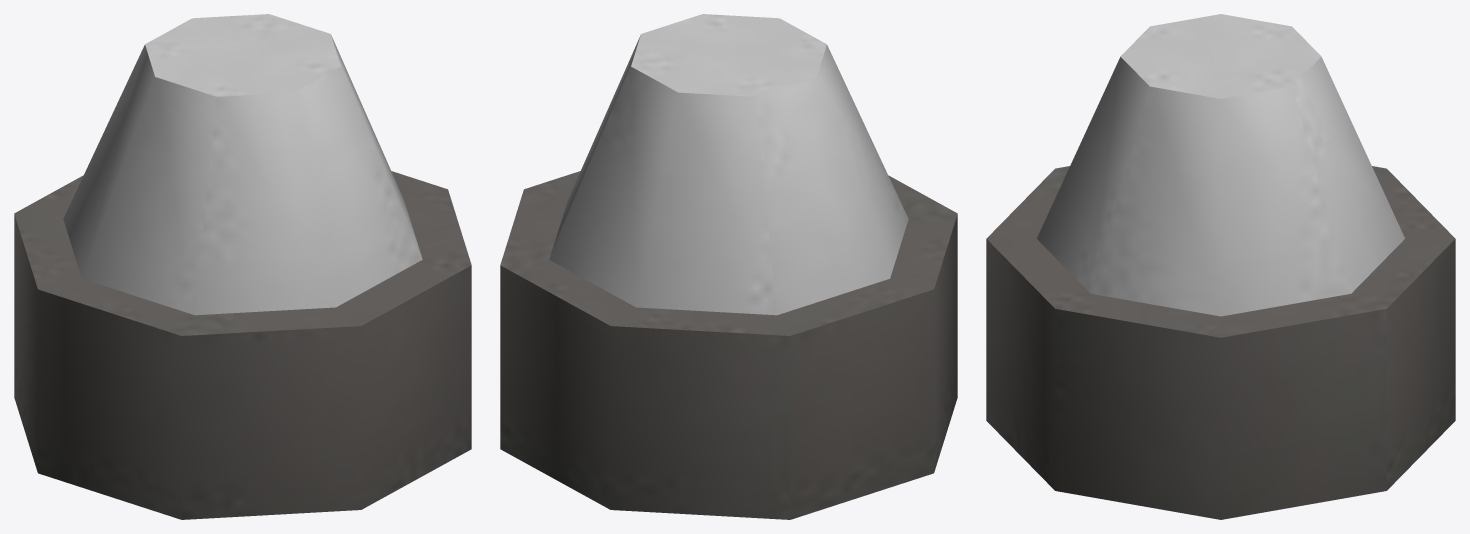
Rendered from small-lamp.glb.
3 renders of one model, left to right at view 1: azimuth 30°, elevation 25°; view 2: azimuth 150°, elevation 25°; view 3: azimuth 270°, elevation 25°, orthographic.
Visible parts, largest first — view 1: small-lamp; view 2: small-lamp; view 3: small-lamp.
Part boxes in pixels (box(x1,y1,x2,y2)): small-lamp: box(14, 14, 471, 519); small-lamp: box(500, 14, 957, 519); small-lamp: box(986, 14, 1455, 519).
Size of the model in its own units: 0.14 by 0.12 by 0.14.
Materials: 1 (1 with a texture image).
